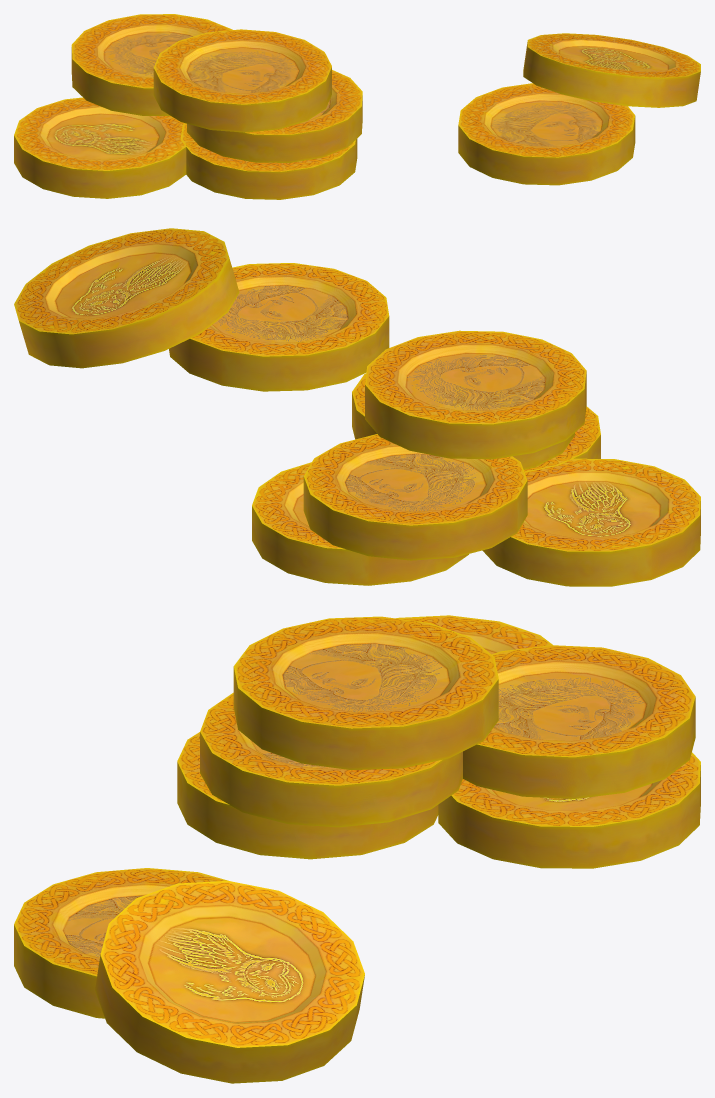
Rendered from coinsScetchfab.fbx.
The picture shows the model from 3 angles, top to bottom: view 1: azimuth 30°, elevation 25°; view 2: azimuth 150°, elevation 25°; view 3: azimuth 270°, elevation 25°; orthographic projection. The views are drawn at different scales.
Visible parts, largest first — view 1: Circle.004, Circle, Circle.006, Circle.001, Circle.007, Circle.003, Circle.002; view 2: Circle.004, Circle.001, Circle.007, Circle.006, Circle, Circle.005, Circle.003, Circle.002; view 3: Circle.001, Circle.004, Circle.007, Circle.005, Circle.003, Circle, Circle.002, Circle.006.
Boxes of the visible parts, x1,y1,x2,y2 form: Circle.004: (153,29,331,132); Circle: (458,83,635,185); Circle.006: (14,97,186,198); Circle.001: (523,33,700,107); Circle.007: (71,14,232,115); Circle.003: (187,70,362,162); Circle.002: (180,123,357,199); Circle.004: (365,330,586,459); Circle.001: (14,228,239,368); Circle.007: (303,434,527,560); Circle.006: (482,458,700,586); Circle: (169,263,389,391); Circle.005: (252,462,468,585); Circle.003: (352,373,574,469); Circle.002: (524,406,600,472); Circle.001: (95,881,364,1083); Circle.004: (233,616,498,770); Circle.007: (463,645,695,798); Circle.005: (438,752,700,868); Circle.003: (200,692,462,827); Circle: (14,868,228,1018); Circle.002: (177,732,438,859); Circle.006: (396,615,552,654).
Size of the model in its own units: 770 by 104 by 515.
